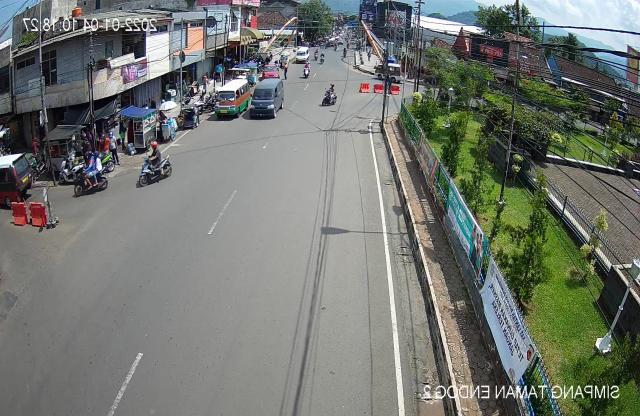Mobil: (211, 74, 251, 124), (0, 152, 30, 211), (250, 76, 286, 122)
Motor: (136, 139, 177, 193), (72, 148, 111, 197), (52, 154, 86, 188), (92, 140, 116, 177), (317, 82, 339, 109)
